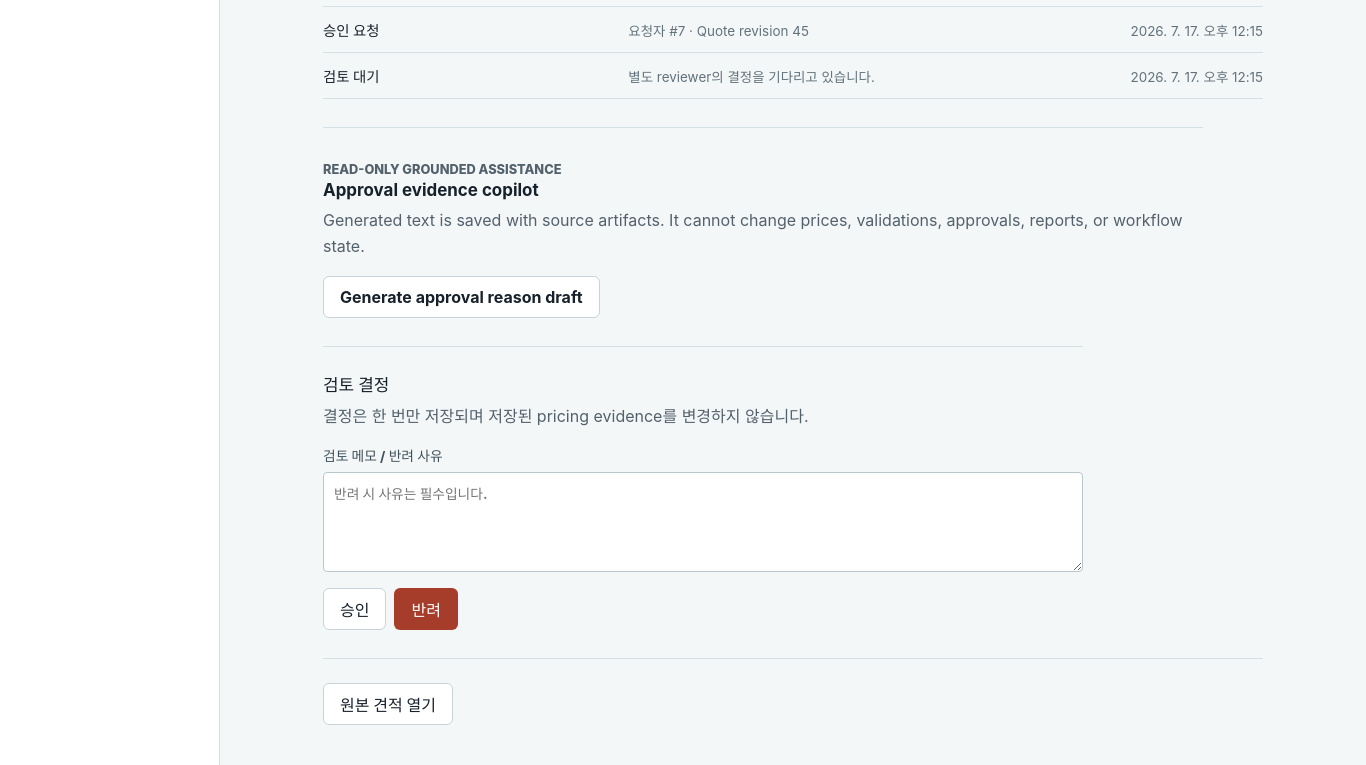
Test: V2-06B approval inbox › lets a separate manager decide once using the persisted approval version
(page scrolled)
Click the button "승인" at (355, 609), box [323, 588, 386, 630]
(page scrolled)
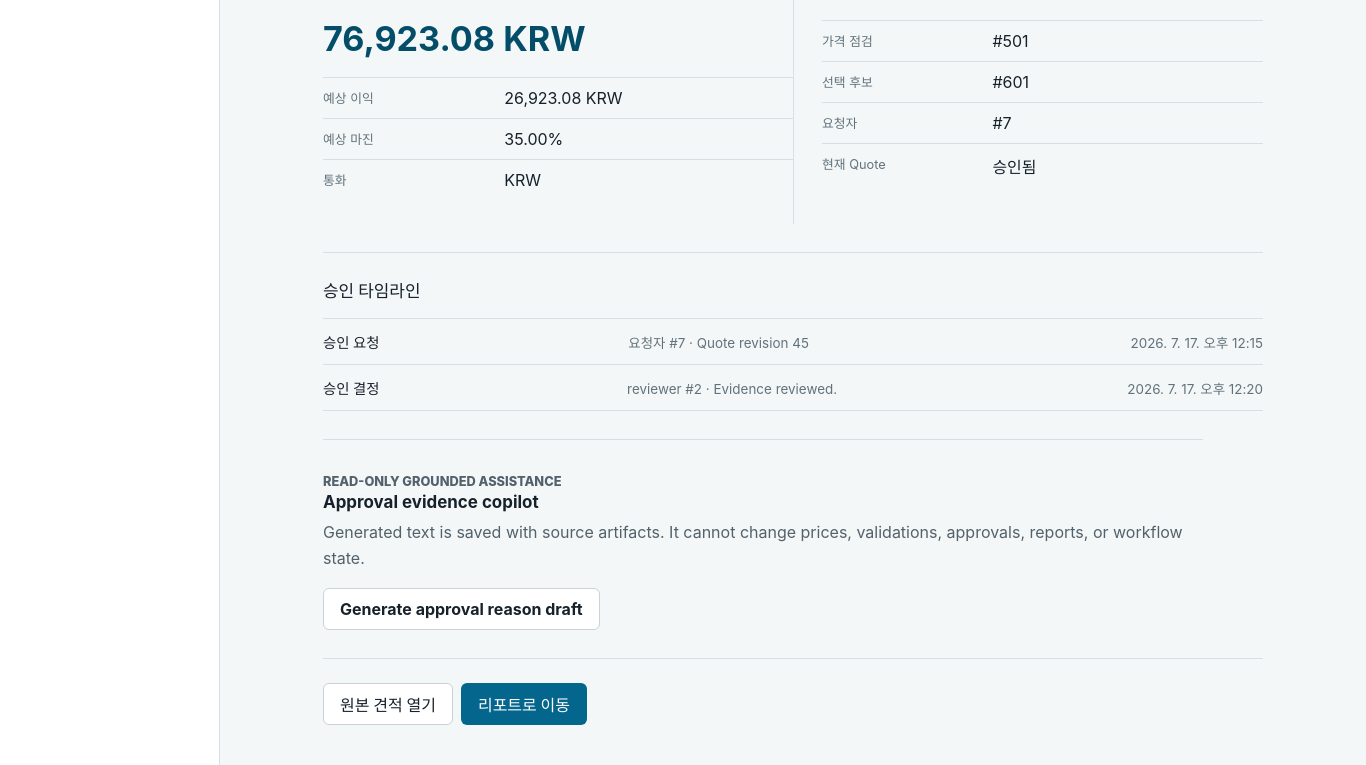
expect the text "reviewer #2 · Evidence reviewed." is shown: met, box [627, 381, 837, 397]
